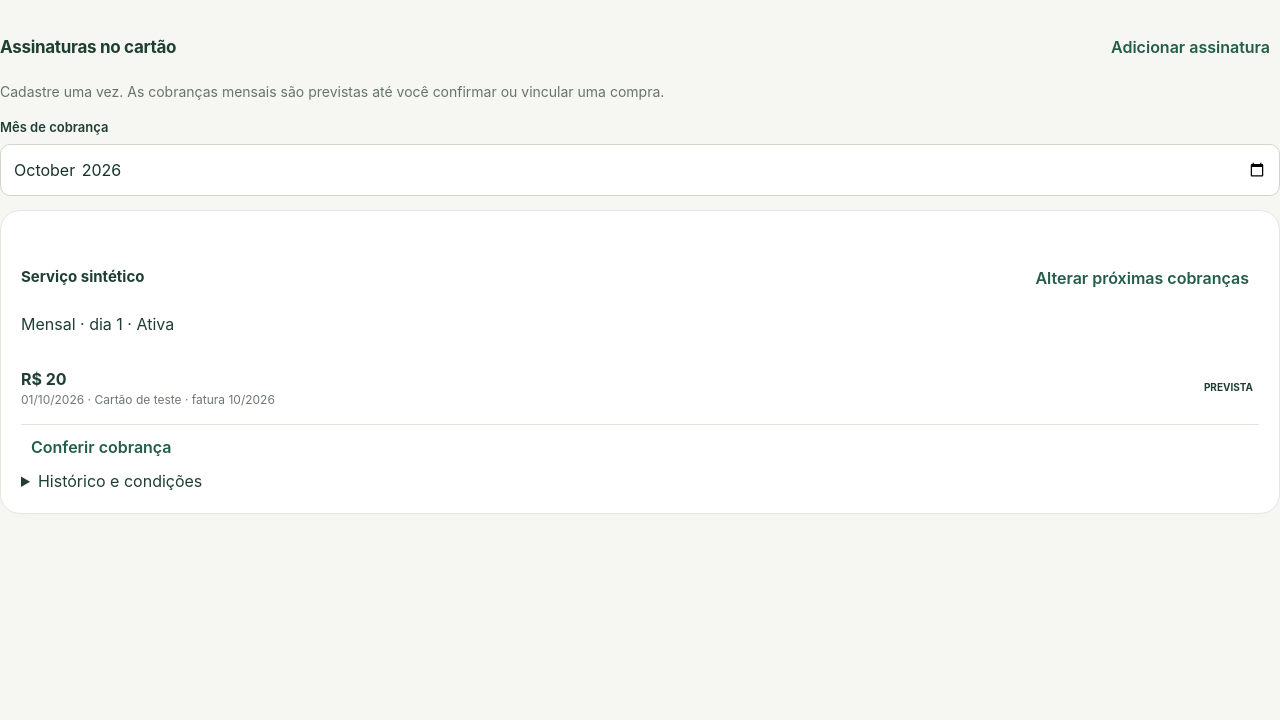
a render failure gives feedback while keeping the subscriptions panel available
The image size is (1280, 720).
Click the button "Adicionar assinatura": (1190, 47) [1101,25,1279,69]
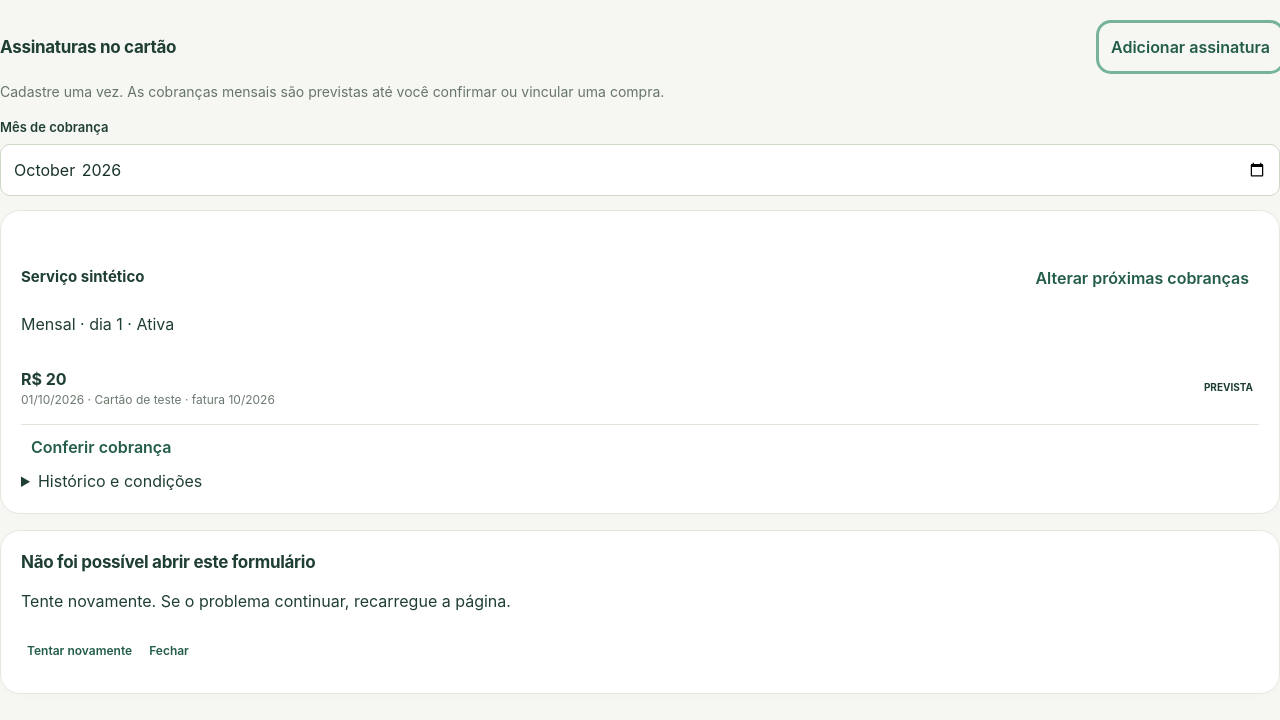
expect the heading "Assinaturas no cartão" is shown: met, box [0,36,176,58]
expect the message shows "Não foi possível abrir este formulário": met, box [21,552,315,572]
Click the button "Tentar novamente": (80, 651) [21,629,138,673]
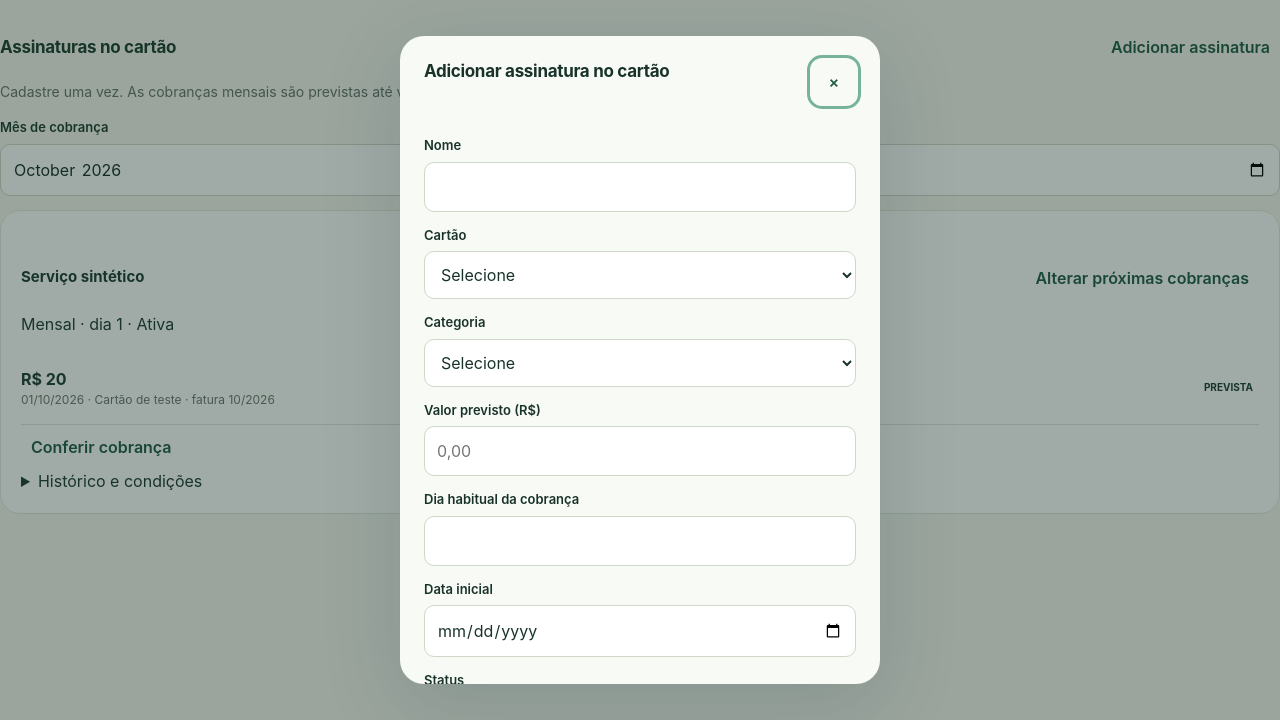
expect the dialog "Adicionar assinatura no cartão" is shown: met, box [400,36,880,684]
Click the button named "Fechar": (834, 82) [812,60,856,104]
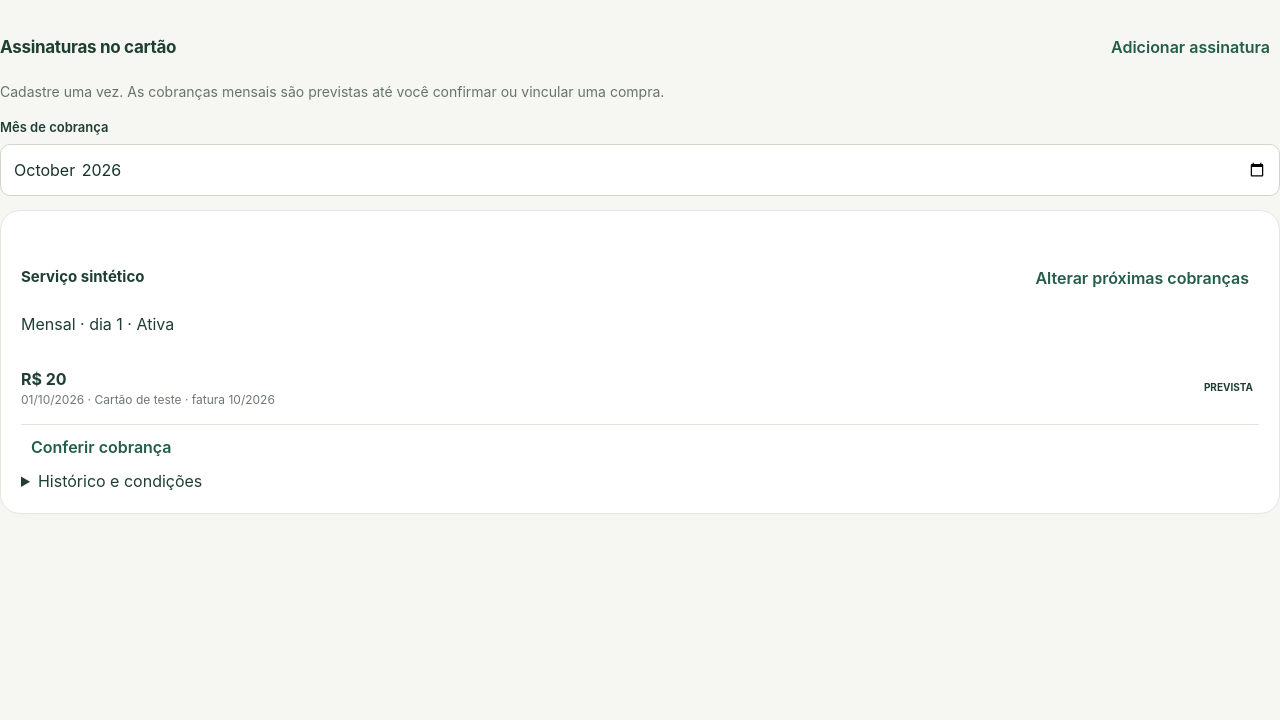
expect the dialog is gone: met
